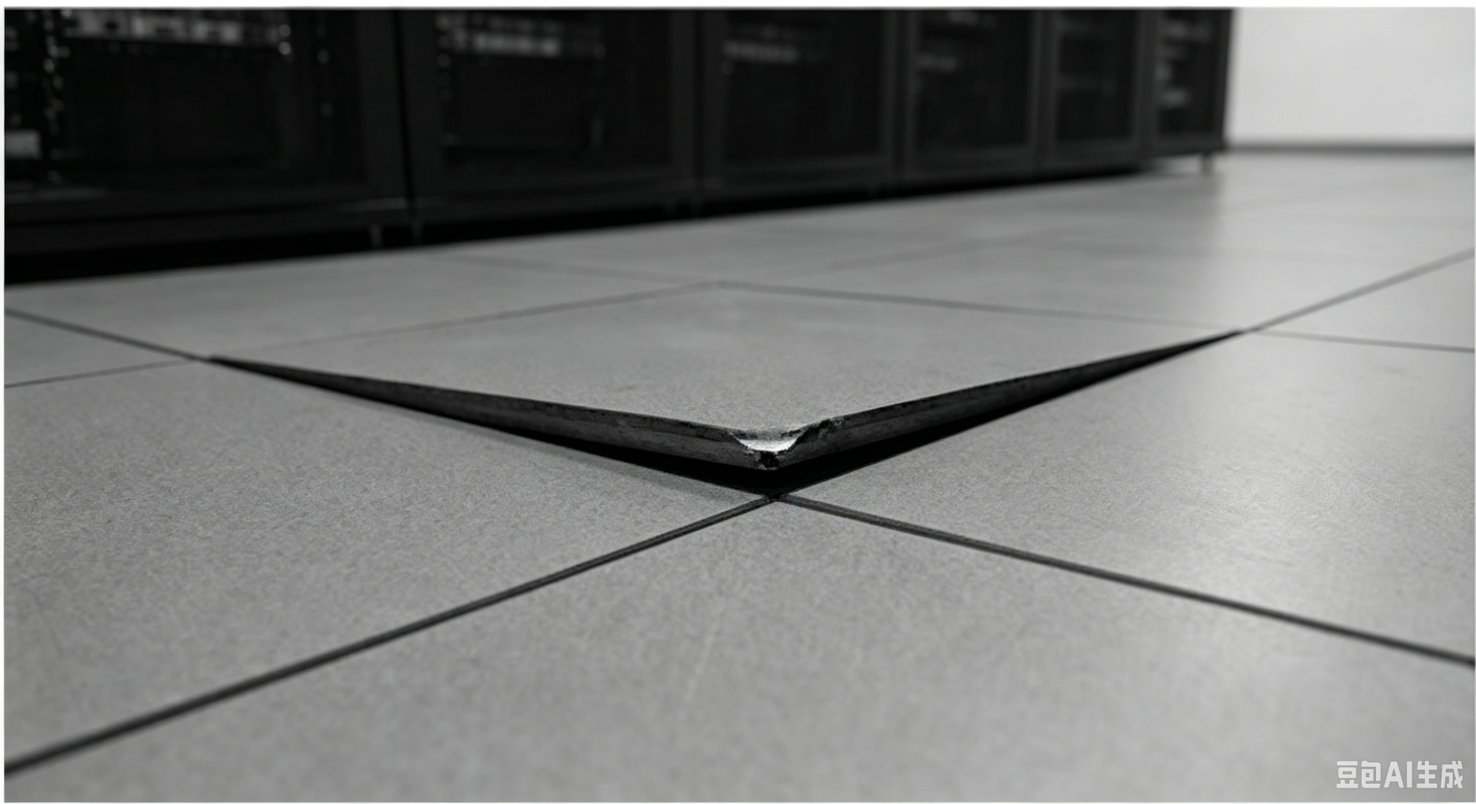floor_defect: (222, 328, 1257, 488)
